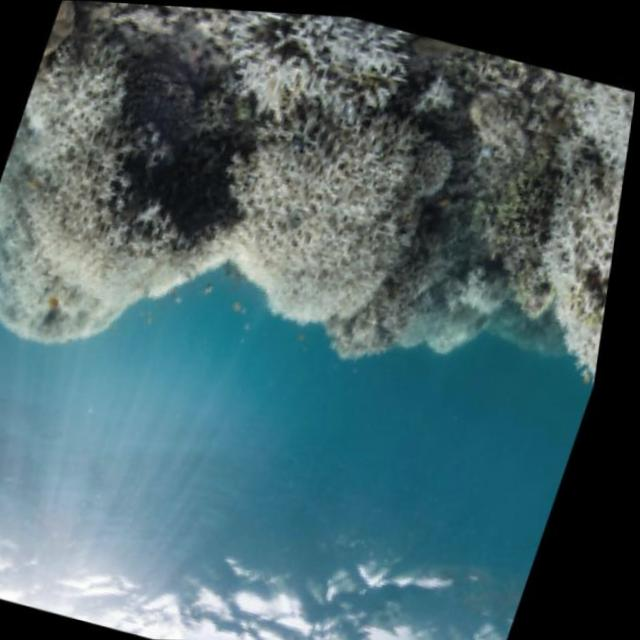Dead Coral: (79, 92, 207, 254), (359, 216, 471, 397), (45, 0, 252, 78)
